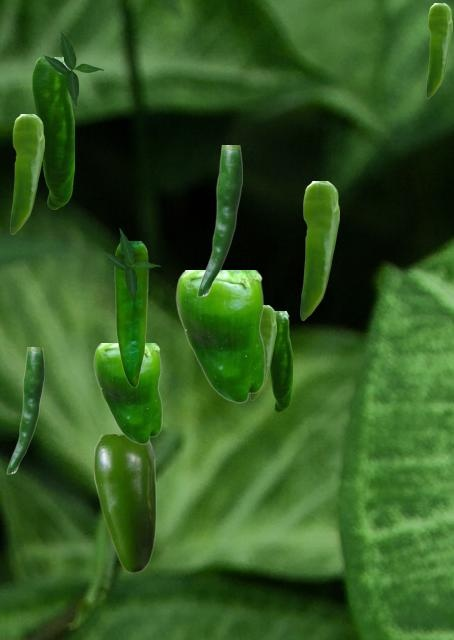green_chili: (175, 270, 264, 402), (94, 434, 155, 572), (93, 343, 161, 443), (196, 145, 241, 296), (32, 57, 73, 208), (300, 181, 338, 319), (114, 241, 147, 386), (6, 347, 43, 473), (10, 114, 43, 233), (250, 305, 275, 399), (426, 3, 451, 97), (270, 311, 291, 411)
